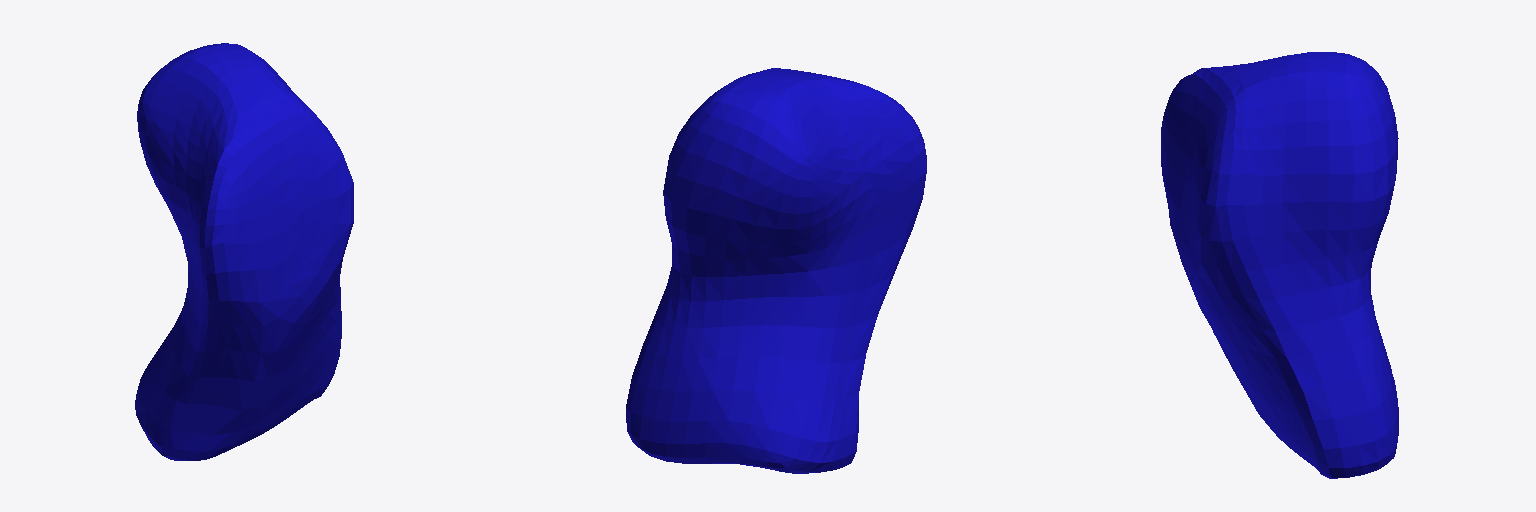
File: L_Foot.obj
3 renders of one model, left to right at view 1: azimuth 30°, elevation 25°; view 2: azimuth 150°, elevation 25°; view 3: azimuth 270°, elevation 25°, orthographic.
Parts seen in each view (by area): view 1: L_Foot_Alpha_Surface.001; view 2: L_Foot_Alpha_Surface.001; view 3: L_Foot_Alpha_Surface.001.
Boxes of the visible parts, box(x1,y1,x2,y2) form: L_Foot_Alpha_Surface.001: box(135, 43, 353, 460); L_Foot_Alpha_Surface.001: box(626, 68, 926, 473); L_Foot_Alpha_Surface.001: box(1161, 52, 1398, 478).
Size of the model in its own units: 0.1209 by 0.2068 by 0.1185.